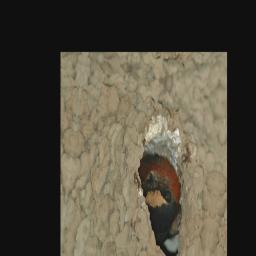Swallow: (130, 147, 186, 250)
